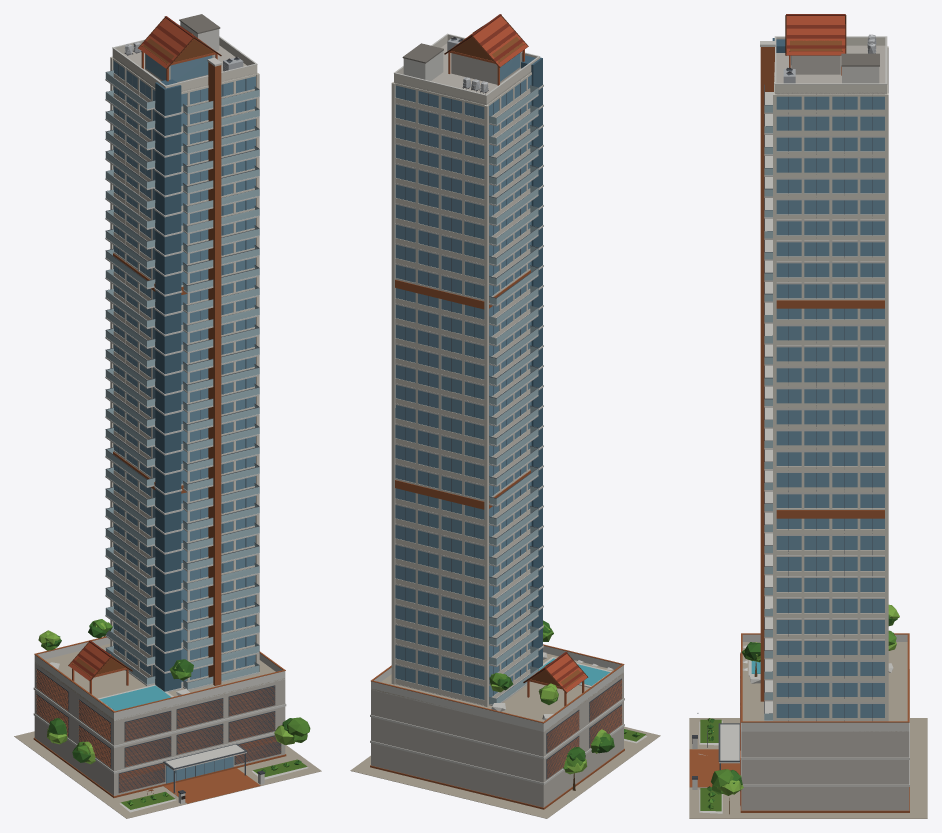
Rendered from home_5.glb.
3 views of the same model, side by side, from view 1: azimuth 30°, elevation 25°; view 2: azimuth 150°, elevation 25°; view 3: azimuth 270°, elevation 25° (orthographic). The views are drawn at different scales.
Parts seen in each view (by area): view 1: body; view 2: body; view 3: body.
Part boxes in pixels (bbox=[...]): body: bbox=[14, 14, 321, 818]; body: bbox=[350, 14, 660, 818]; body: bbox=[689, 14, 927, 818].
Bounding box in the file's own units: 33.06 × 113 × 31.89.
